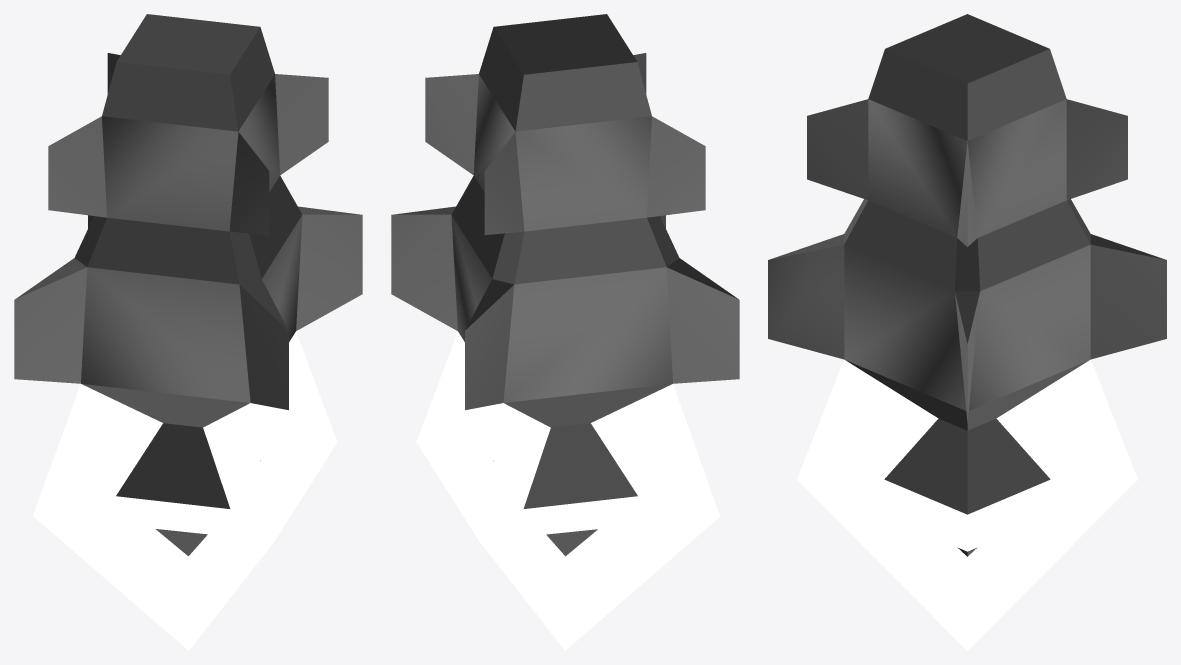
The model's file is emp.glb.
3 renders of one model, left to right at view 1: azimuth 30°, elevation 25°; view 2: azimuth 150°, elevation 25°; view 3: azimuth 270°, elevation 25°, orthographic.
Parts seen in each view (by area): view 1: group_19; view 2: group_19; view 3: group_19.
Boxes of the visible parts, bbox=[...] form: group_19: bbox=[14, 14, 362, 650]; group_19: bbox=[391, 14, 739, 650]; group_19: bbox=[768, 14, 1166, 650].
Size of the model in its own units: 2452 by 4084 by 2452.
Materials: 2 (2 with a texture image).
